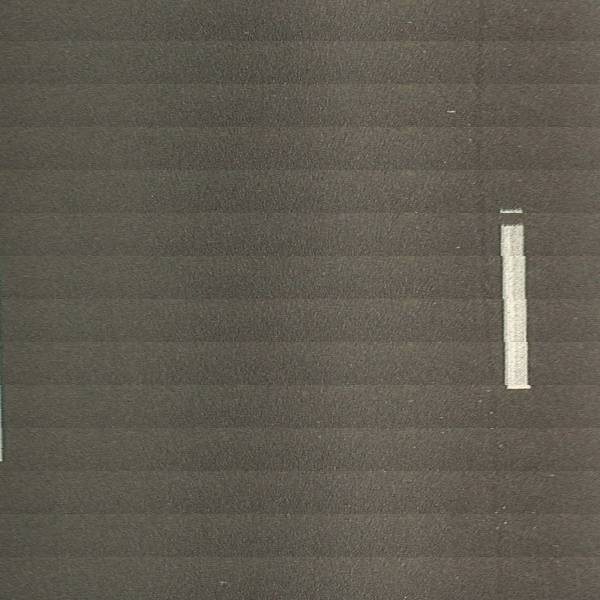road_damage: (471, 44, 499, 395)
